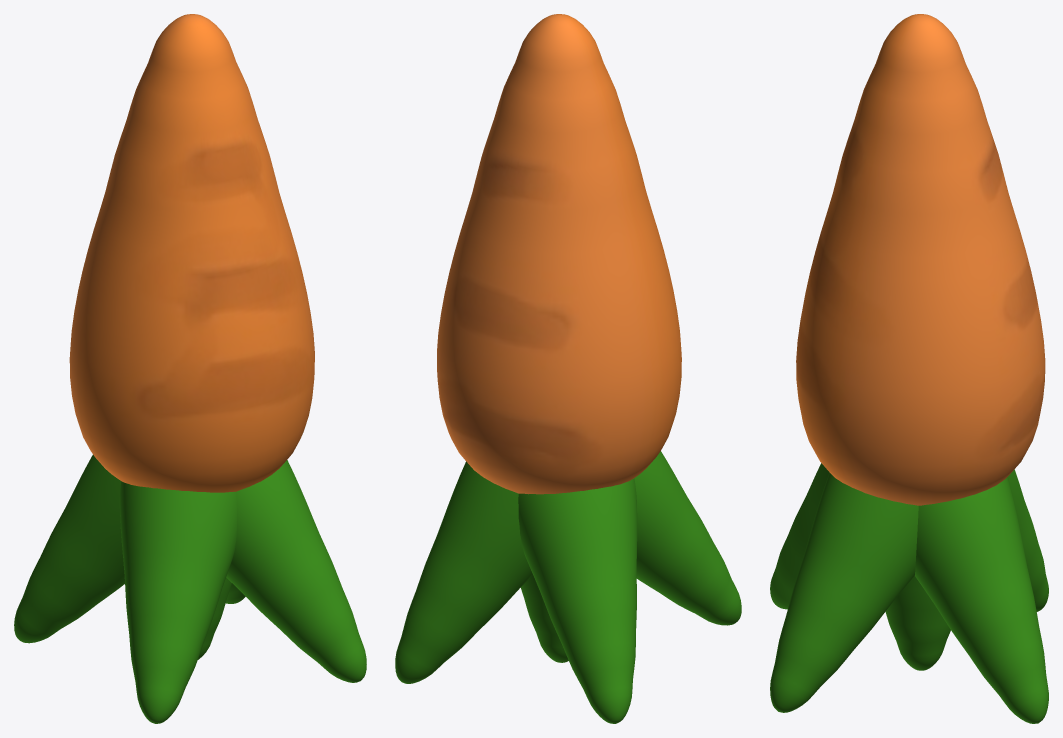
The model's file is carrot.fbx.
3 views of the same model, side by side, from view 1: azimuth 30°, elevation 25°; view 2: azimuth 150°, elevation 25°; view 3: azimuth 270°, elevation 25° (orthographic).
Visible parts, largest first — view 1: polySurface7; view 2: polySurface7; view 3: polySurface7.
Boxes of the visible parts, x1,y1,x2,y2 form: polySurface7: (14, 14, 366, 723); polySurface7: (395, 14, 741, 723); polySurface7: (770, 14, 1048, 723).
Bounding box in the file's own units: 2.26 × 6.09 × 2.33.
Materials: 2 (2 with a texture image).
